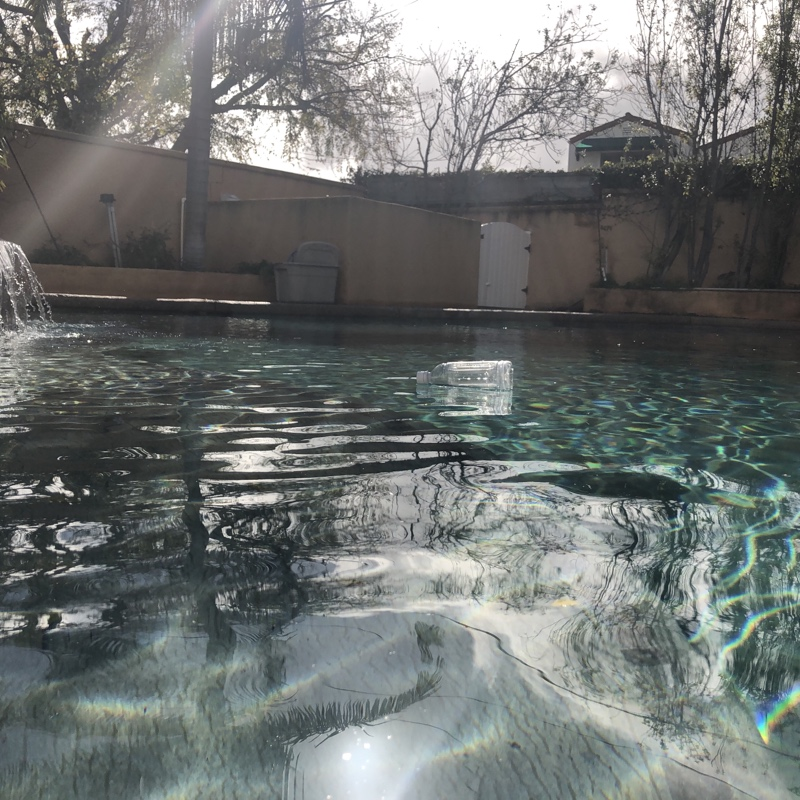Plastic Bottle: (414, 351, 519, 395)
